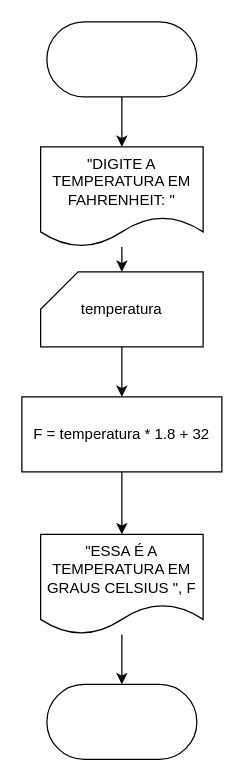
Image size: 244x781. Some labels were removed from this diagram. Here are the shapes that lost their labels. From the top down, the box of each, then its label:
(46, 21, 197, 97): INCIO
(46, 683, 197, 759): FIM
